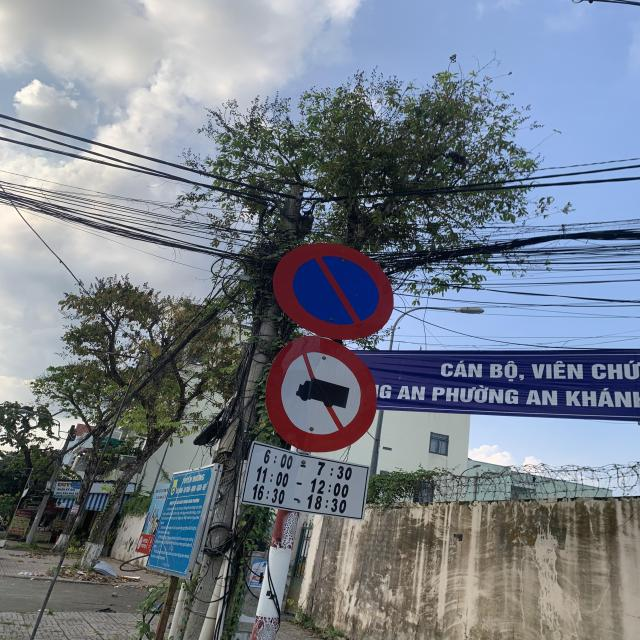Cam_Dau_Xe: (272, 242, 395, 340)
Cam_Xe_Tai: (264, 336, 377, 452)
